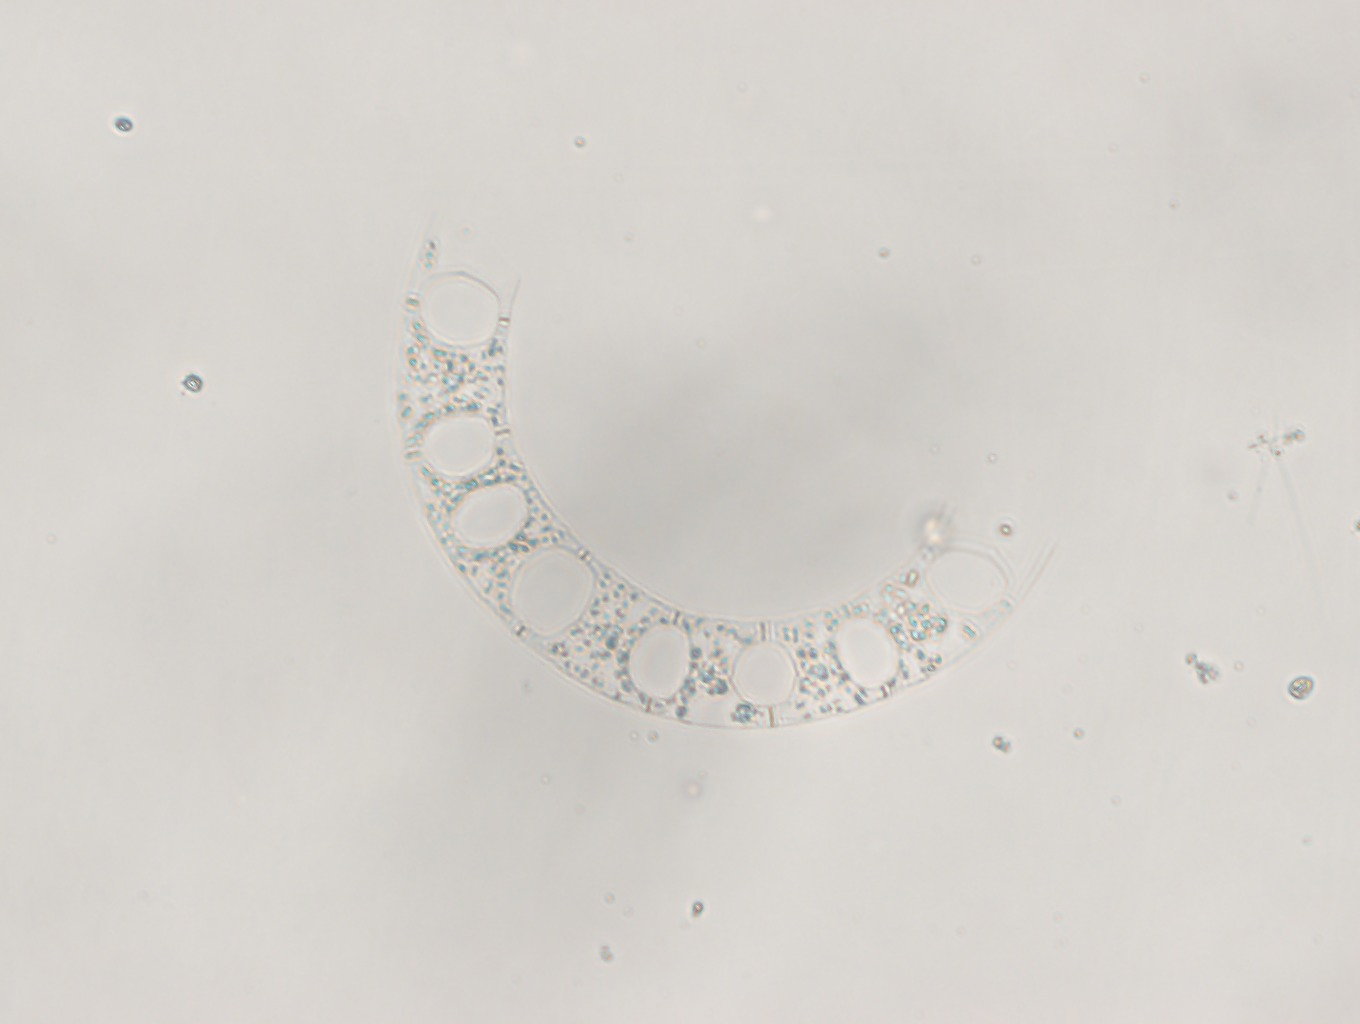eucampia: (375, 195, 1034, 734)
